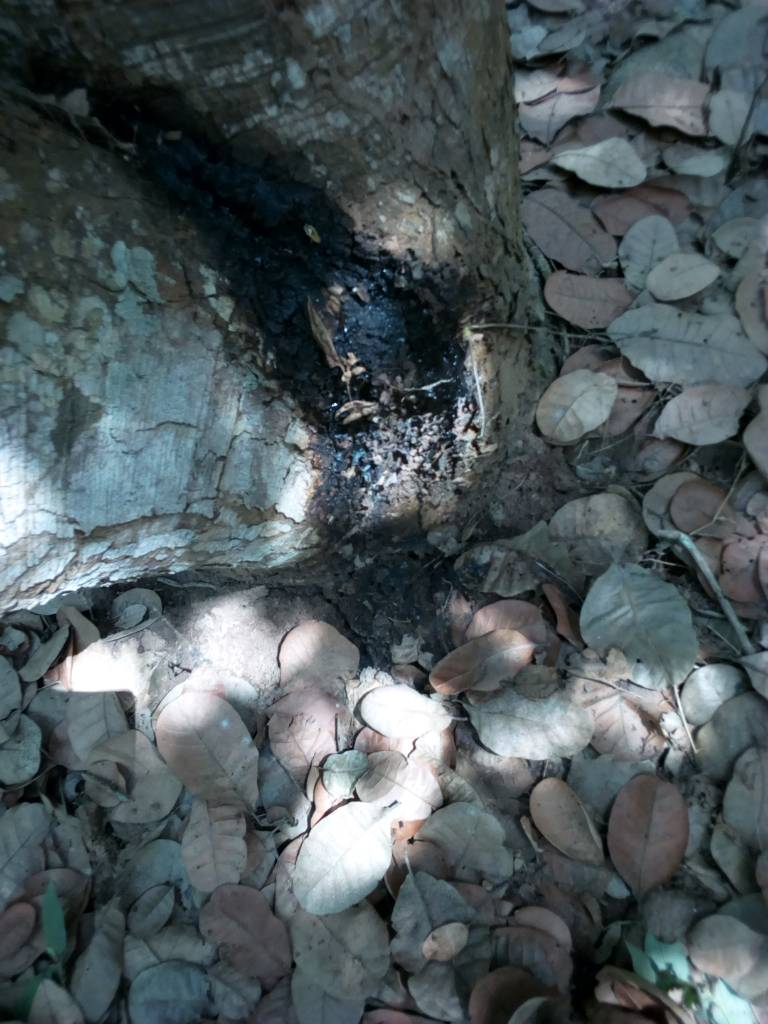Gommose: (171, 150, 482, 508)
